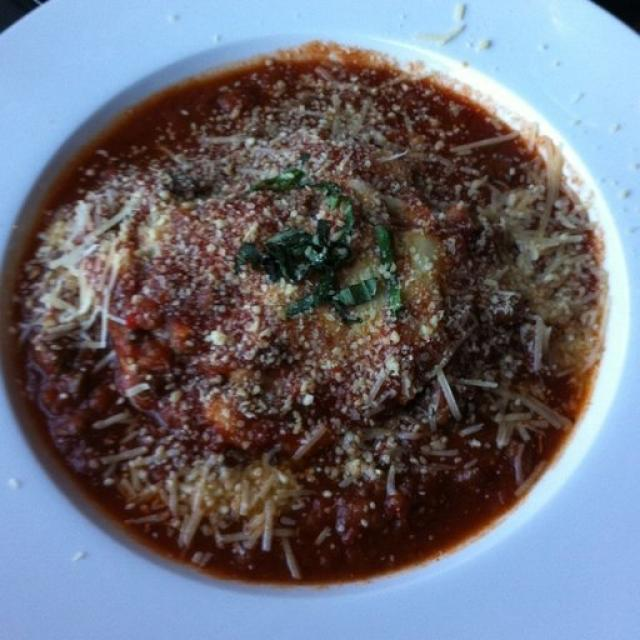Lasagna: (59, 98, 630, 557)
